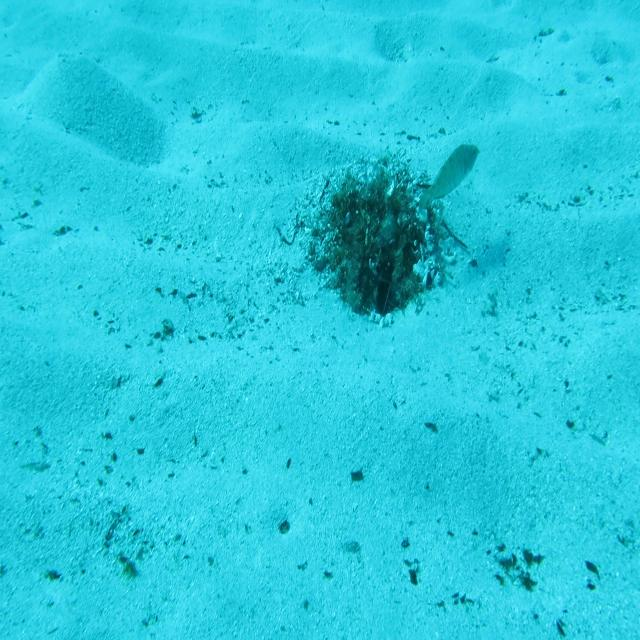SA: (414, 135, 482, 227)
nest: (301, 147, 458, 332)
